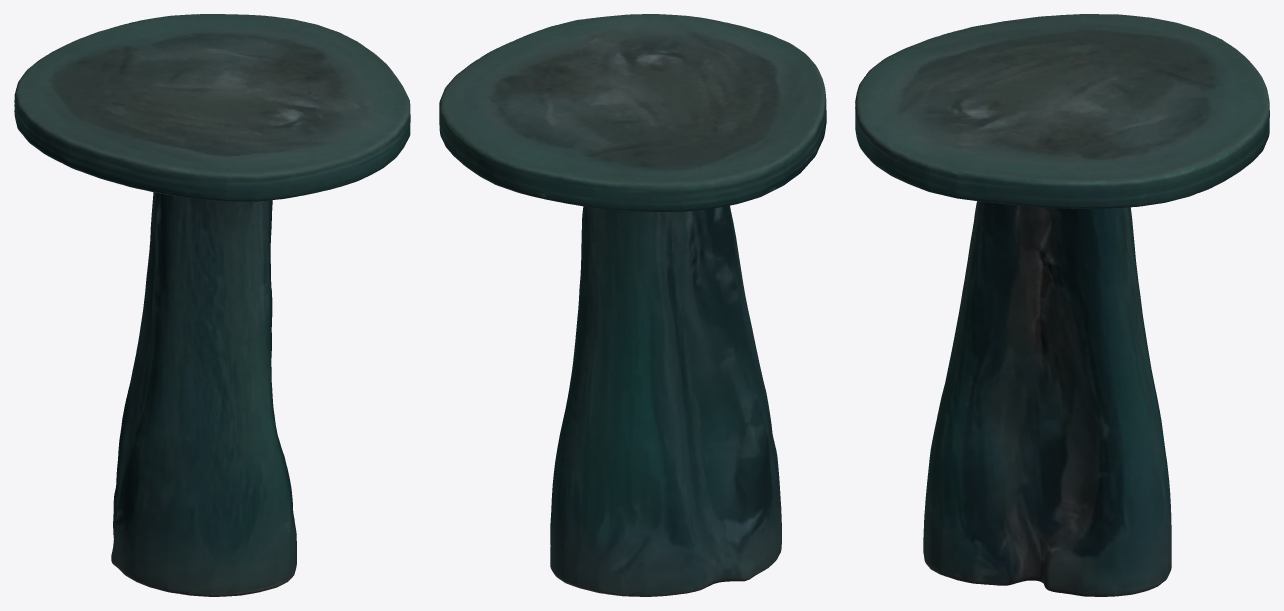
The model's file is item-24.glb.
The picture shows the model from 3 angles, left to right: view 1: azimuth 30°, elevation 25°; view 2: azimuth 150°, elevation 25°; view 3: azimuth 270°, elevation 25°; orthographic projection. The views are drawn at different scales.
Parts seen in each view (by area): view 1: part_0; view 2: part_0; view 3: part_0.
Boxes of the visible parts, x1,y1,x2,y2 form: part_0: (14,14,410,596); part_0: (439,14,826,596); part_0: (855,14,1269,596).
Bounding box in the file's own units: 0.7685 × 1 × 0.7973.
Materials: 1 (1 with a texture image).
